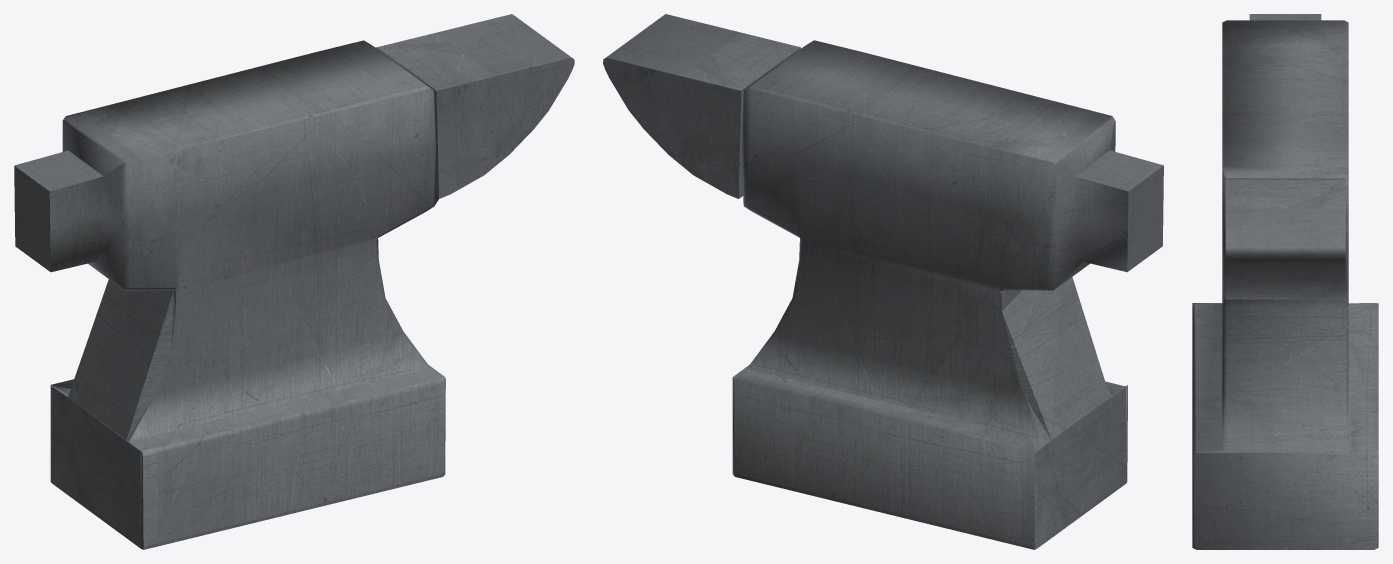
Rendered from WaxWorld_Anvil.fbx.
3 views of the same model, side by side, from view 1: azimuth 30°, elevation 25°; view 2: azimuth 150°, elevation 25°; view 3: azimuth 270°, elevation 25° (orthographic).
Parts seen in each view (by area): view 1: Line001; view 2: Line001; view 3: Line001.
Part boxes in pixels (box(x1,y1,x2,y2)): Line001: box(14, 14, 574, 549); Line001: box(603, 14, 1163, 549); Line001: box(1192, 14, 1378, 549).
Size of the model in its own units: 233 by 165 by 73.01.
1 material, 1 textured.
